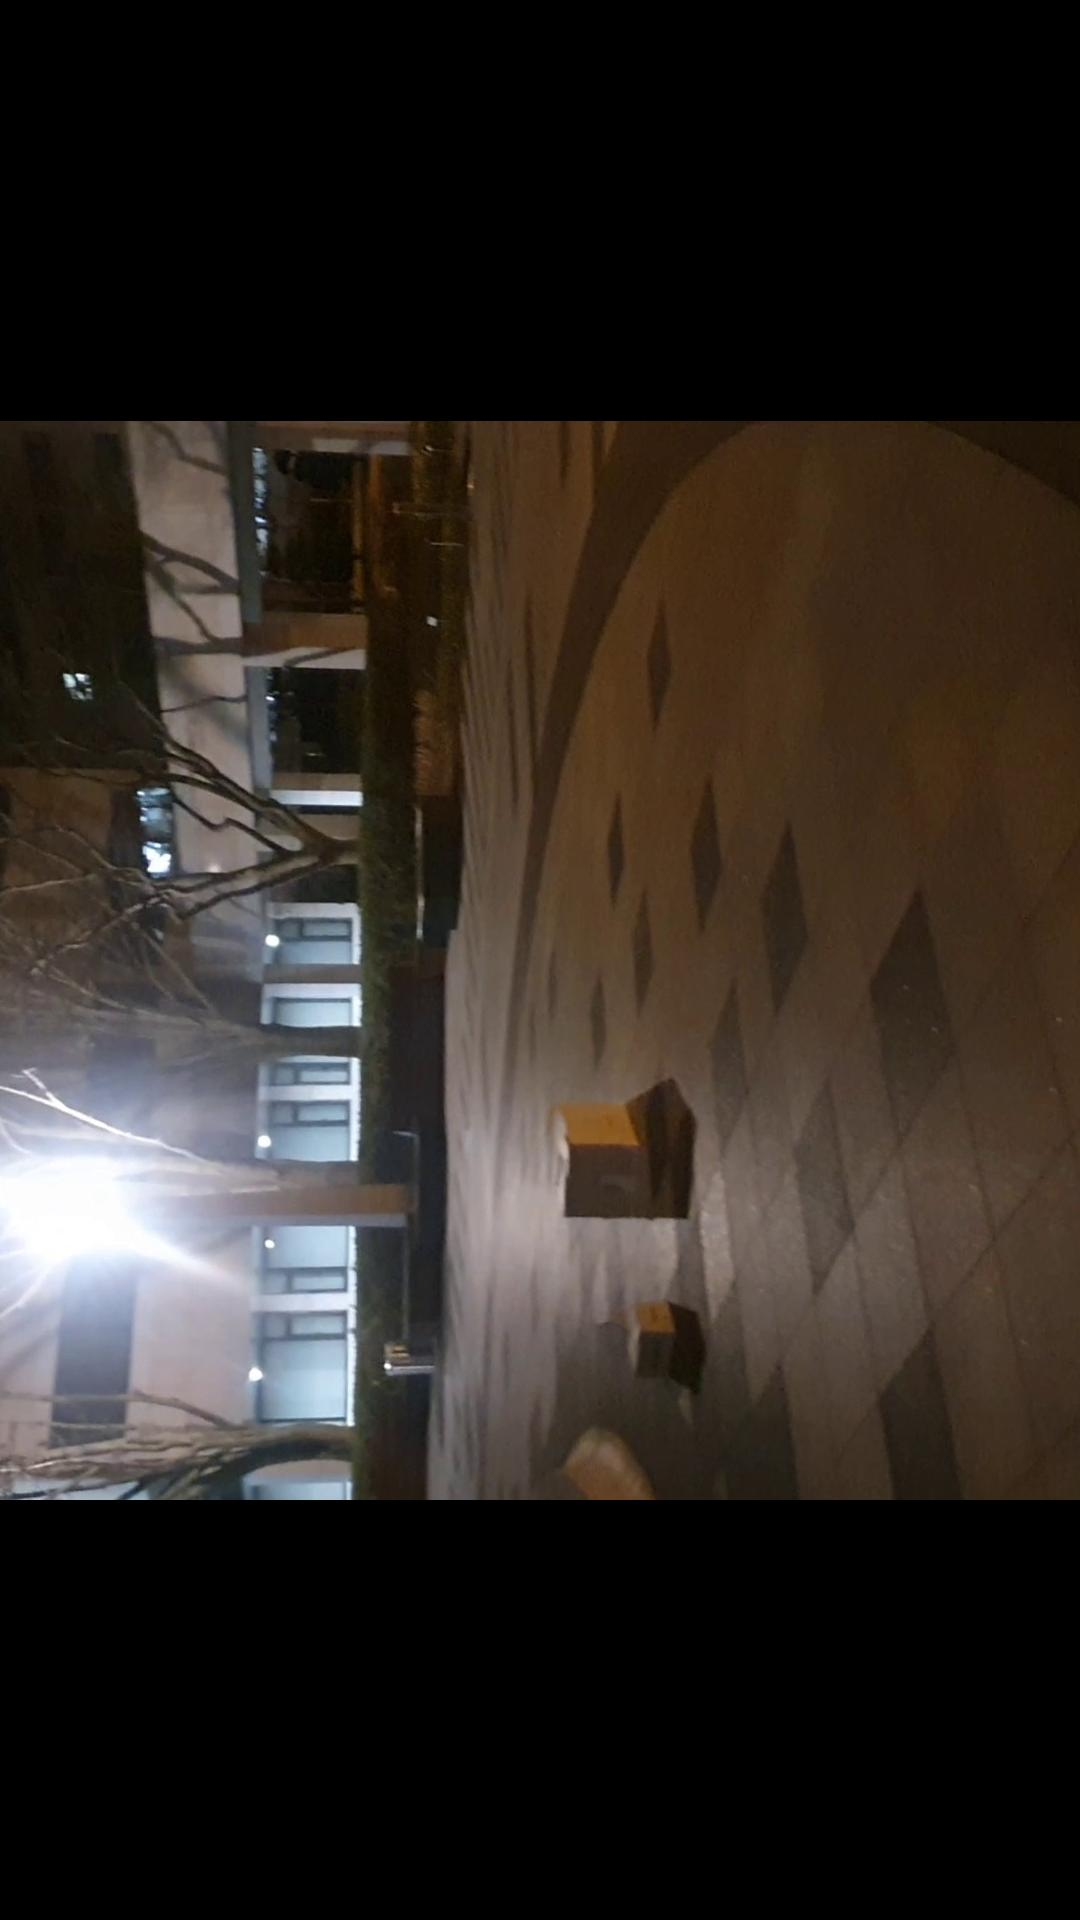Box: (538, 1080, 663, 1218), (611, 1280, 676, 1374)
